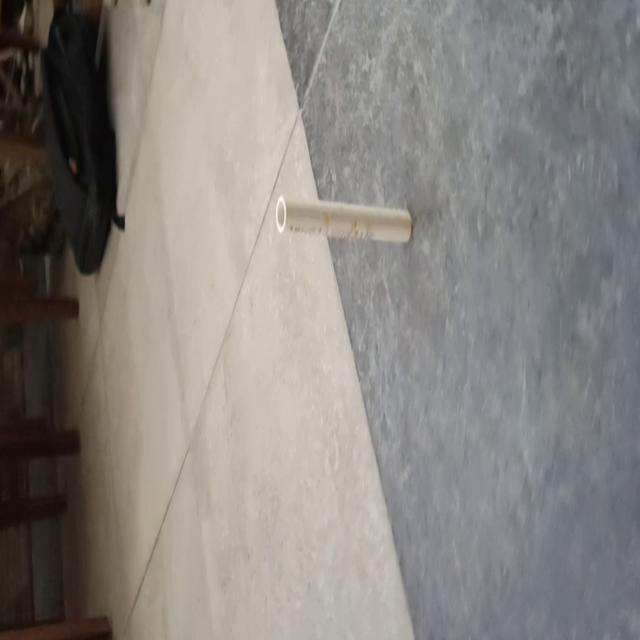Cube: (274, 193, 412, 246)
